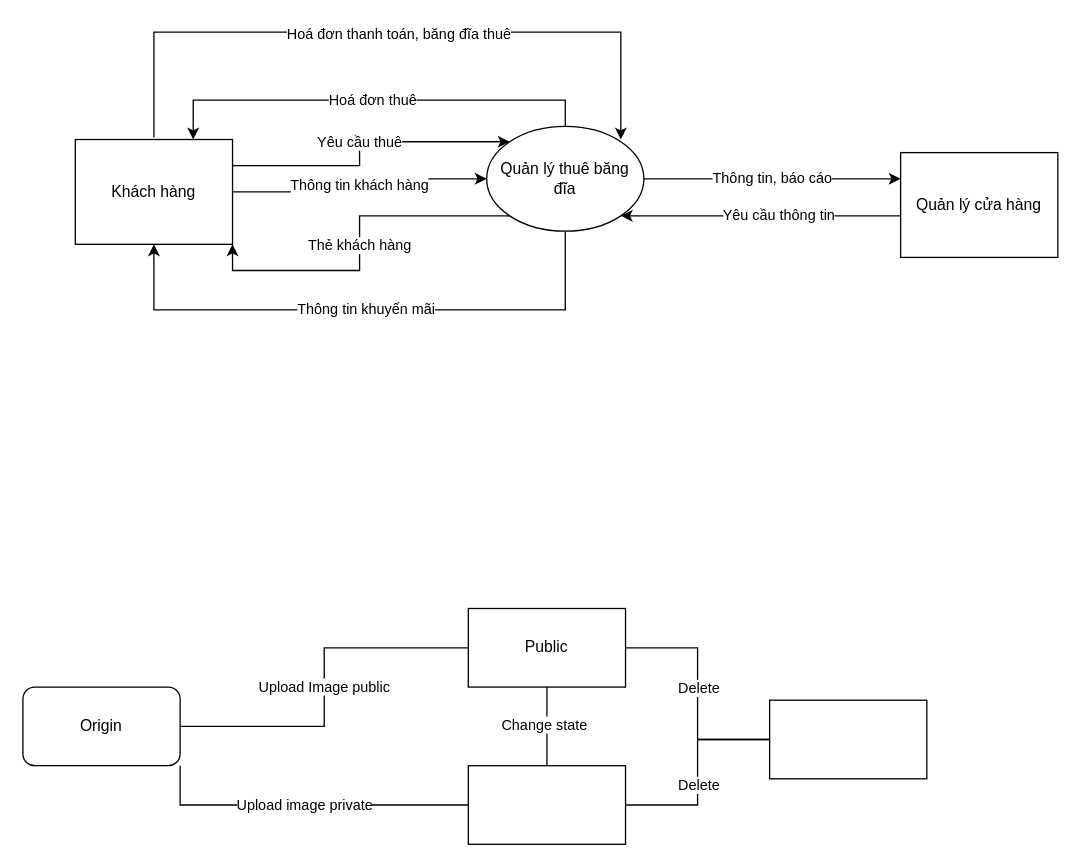
The diagram is 1081 pixels wide and 867 high, and some of its shapes have lost their labels. Here are the shapes that lost their labels. From the top down, the box of each, then its label:
(768, 699, 927, 779): Not exist
(467, 764, 626, 844): Private
